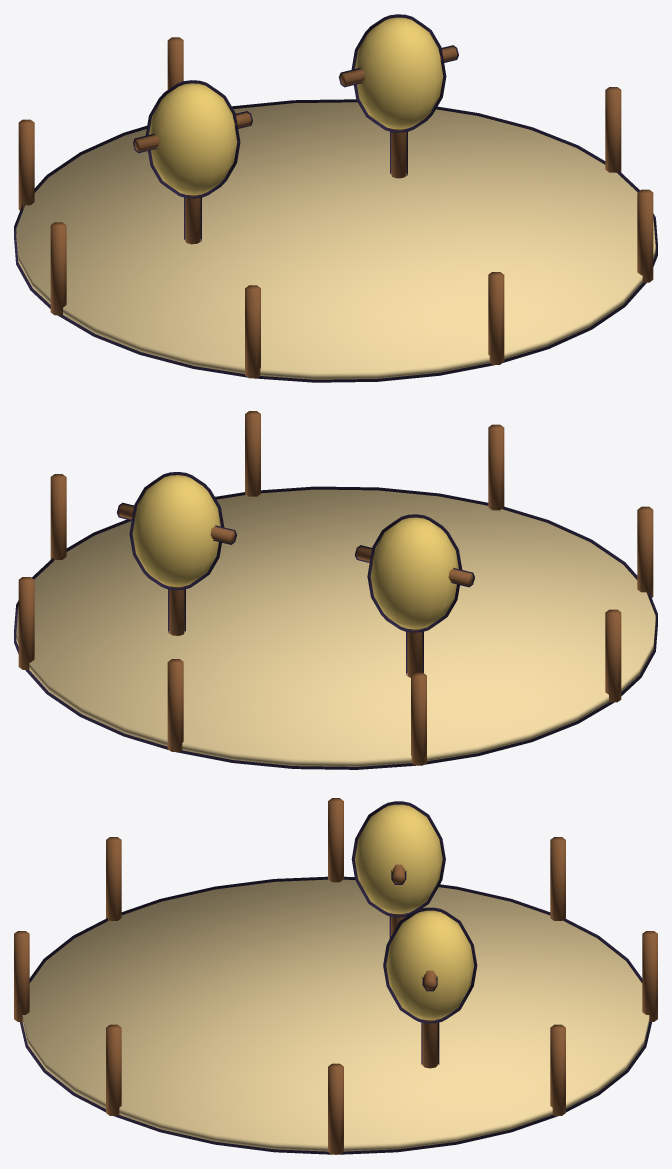
The model's file is arena_1.glb.
The picture shows the model from 3 angles, top to bottom: view 1: azimuth 30°, elevation 25°; view 2: azimuth 150°, elevation 25°; view 3: azimuth 270°, elevation 25°; orthographic projection.
Visible parts, largest first — view 1: sand, straw.001, straw, cyl.006, cyl.004, cyl.007, cyl.005, cyl.003, cyl, post.001, post, cyl.002 (+2 smaller); view 2: sand, straw, straw.001, cyl.002, cyl.004, cyl.001, cyl.003, cyl.005, cyl.006, cyl, cyl.007, post.001 (+3 smaller); view 3: sand, straw.001, straw, cyl, cyl.001, cyl.007, cyl.002, cyl.006, cyl.004, cyl.003, cyl.005, post.001.
Boxes of the visible parts, box(x1,y1,x2,y2) form: sand: box(14, 99, 657, 382); straw.001: box(351, 14, 446, 132); straw: box(145, 80, 240, 198); cyl.006: box(488, 272, 504, 364); cyl.004: box(50, 222, 66, 315); cyl.007: box(637, 189, 653, 282); cyl.005: box(245, 285, 260, 378); cyl.003: box(18, 119, 34, 210); cyl: box(605, 87, 621, 173); post.001: box(390, 129, 407, 178); post: box(184, 194, 201, 244); cyl.002: box(167, 37, 183, 89); sand: box(14, 486, 657, 769); straw: box(367, 514, 462, 632); straw.001: box(129, 472, 224, 590); cyl.002: box(167, 659, 183, 751); cyl.004: box(605, 609, 621, 702); cyl.001: box(18, 577, 34, 669); cyl.003: box(411, 672, 426, 765); cyl.005: box(637, 506, 653, 597); cyl.006: box(488, 424, 504, 510); cyl: box(50, 474, 66, 560); cyl.007: box(245, 411, 260, 496); post.001: box(168, 586, 185, 635); sand: box(20, 876, 651, 1154); straw.001: box(383, 907, 477, 1023); straw: box(351, 801, 445, 917); cyl: box(328, 1063, 343, 1154); cyl.001: box(550, 1024, 565, 1115); cyl.007: box(106, 1024, 121, 1115); cyl.002: box(642, 931, 657, 1021); cyl.006: box(14, 931, 29, 1021); cyl.004: box(328, 798, 343, 882); cyl.003: box(550, 837, 565, 920); cyl.005: box(106, 837, 121, 920); post.001: box(421, 1020, 439, 1068).
Size of the model in its own units: 4.09 by 1.15 by 4.1.
